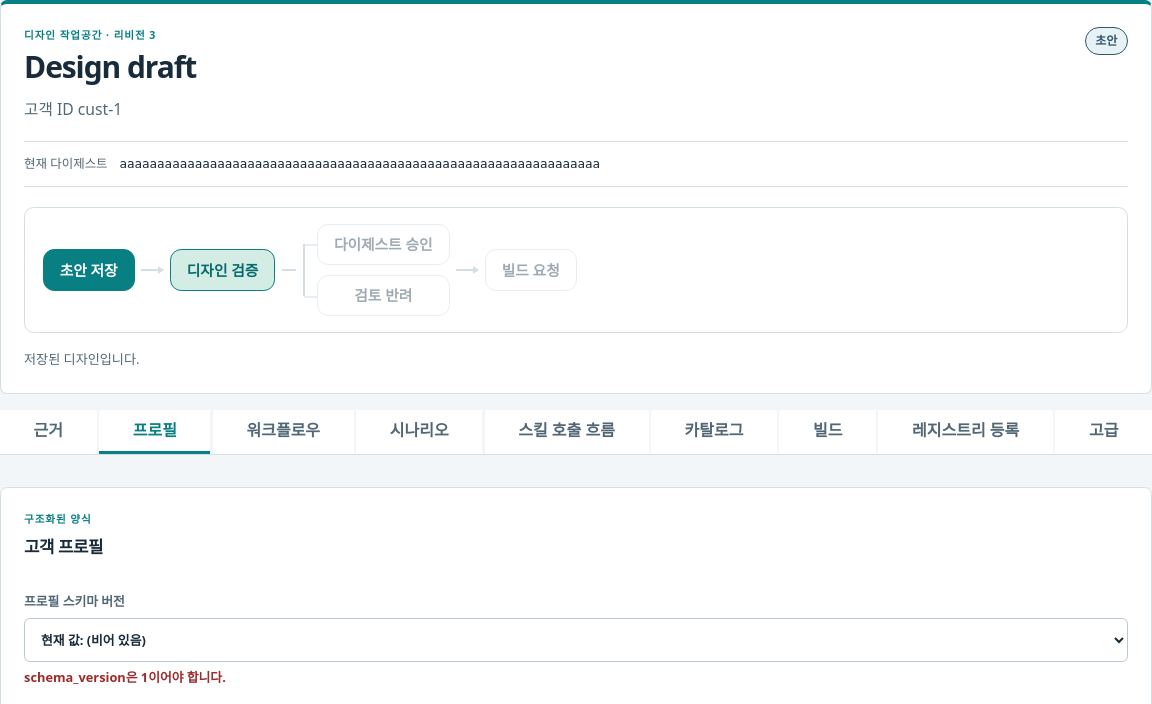
StudioDesignPageContent › shows only persisted profile evidence and an honest interview boundary
Check: the heading "Design draft" is shown, box [24,50,196,83]
Click the tab "근거" at (48,432), box [0,410,97,454]
(page scrolled)
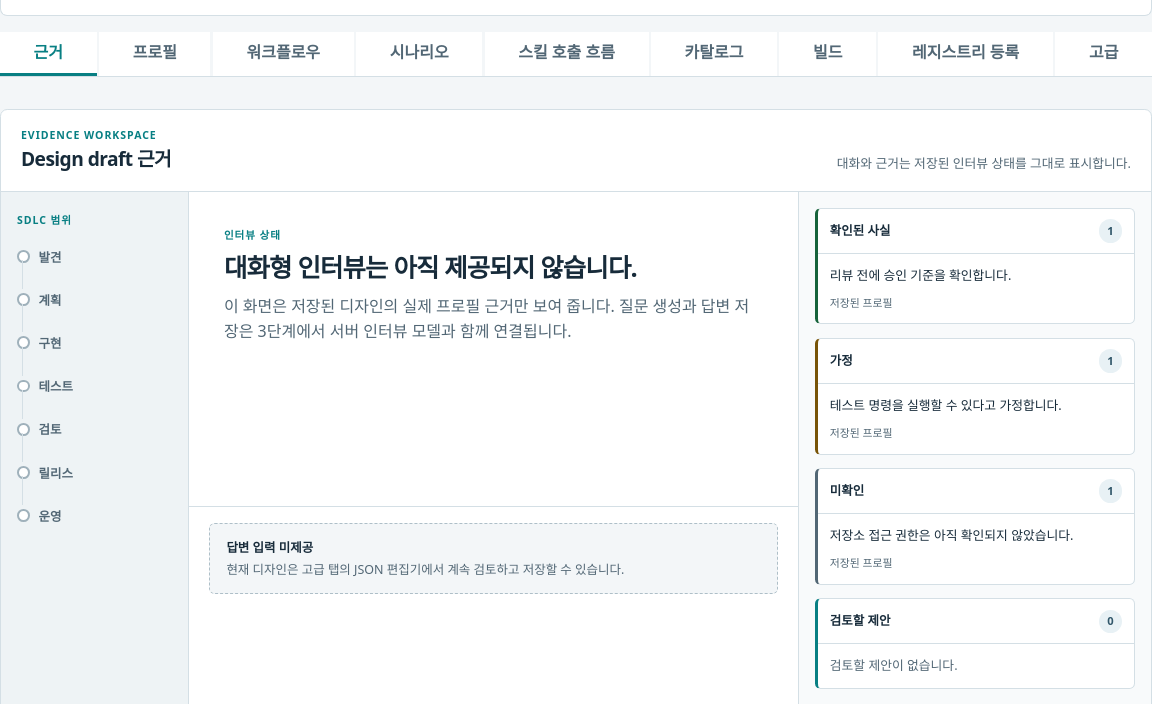
Check: the heading "대화형 인터뷰는 아직 제공되지 않습니다." is shown, box [224,250,637,284]
Check: the text "리뷰 전에 승인 기준을 확인합니다." is shown, box [830,266,1011,284]
Check: the text "테스트 명령을 실행할 수 있다고 가정합니다." is shown, box [830,396,1062,414]
